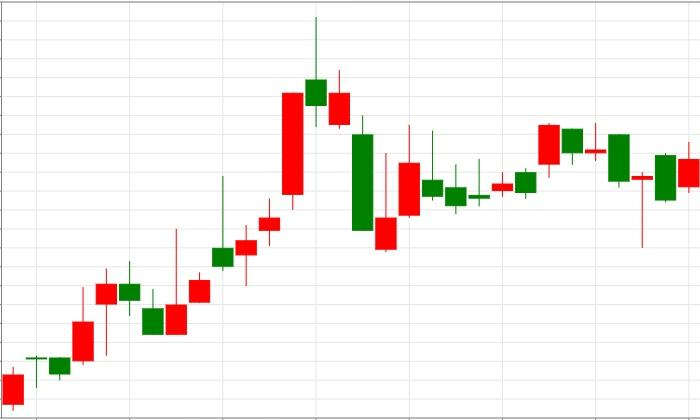shooting_star_fall: (166, 17, 327, 336)
